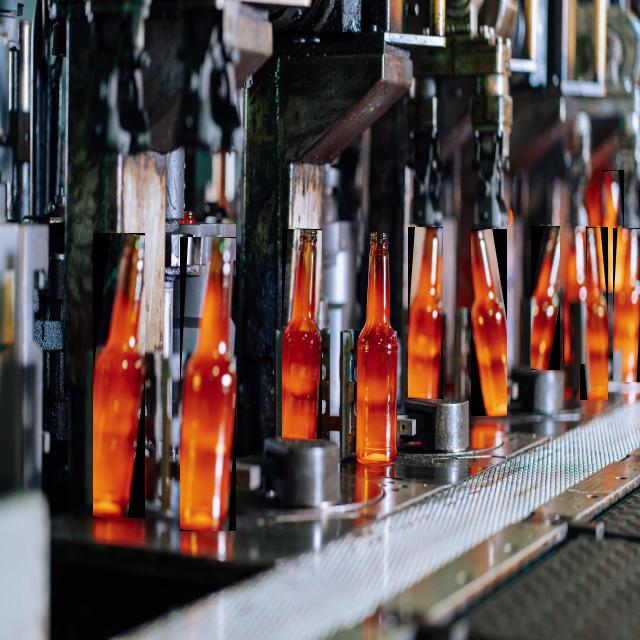Bottle: (180, 237, 236, 531), (94, 234, 145, 518), (356, 233, 397, 465), (283, 229, 322, 439), (471, 229, 507, 416), (408, 228, 443, 398), (580, 228, 608, 399), (532, 226, 559, 370), (614, 229, 639, 382), (563, 227, 587, 364), (602, 171, 624, 292)
